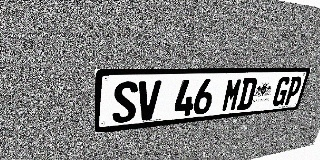4: (173, 79, 197, 117)
6: (192, 79, 216, 115)
D: (236, 77, 258, 110)
G: (271, 76, 292, 107)
M: (221, 78, 243, 112)
P: (283, 76, 303, 105)
S: (112, 81, 138, 124)
V: (136, 80, 162, 121)
